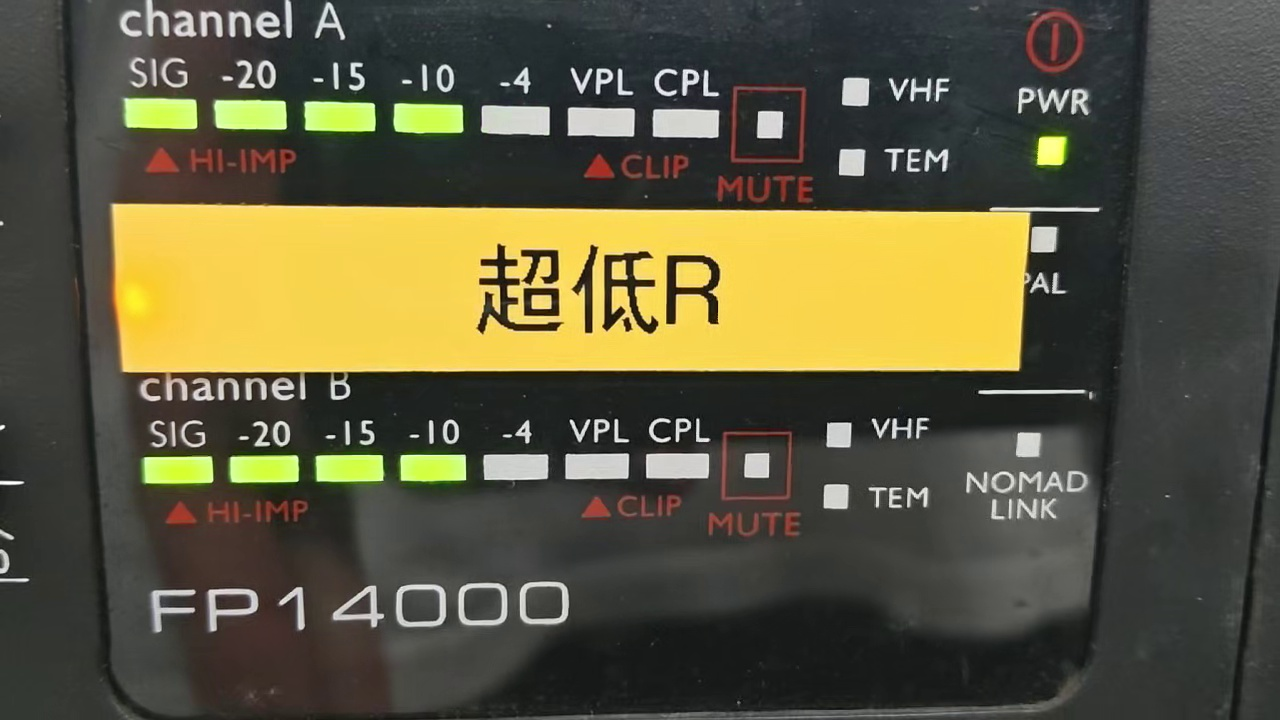FP_CPL: (644, 55, 729, 147), (643, 410, 715, 487)
FP_PWR: (1004, 80, 1099, 172)
FP_PWR_area: (995, 7, 1101, 209)
FP_SIG_area: (117, 50, 960, 208), (139, 409, 937, 542)
FP_VPL: (562, 55, 641, 147), (562, 408, 632, 489)
